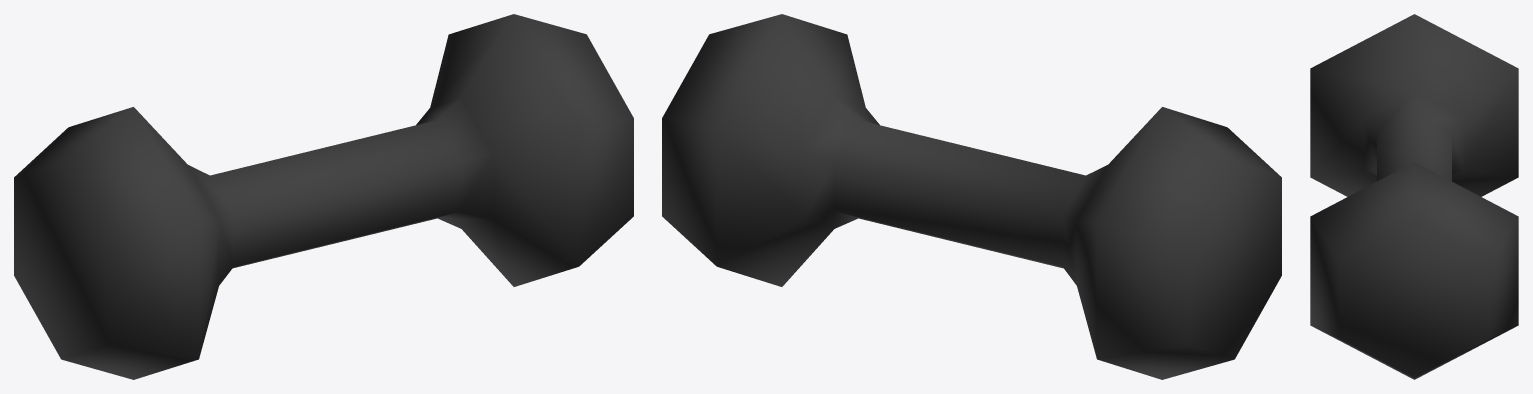
File: Weight_03.FBX
3 renders of one model, left to right at view 1: azimuth 30°, elevation 25°; view 2: azimuth 150°, elevation 25°; view 3: azimuth 270°, elevation 25°, orthographic. The views are drawn at different scales.
Visible parts, largest first — view 1: Weight; view 2: Weight; view 3: Weight.
Part boxes in pixels (x1=…): Weight: x1=14, y1=14, x2=633, y2=379; Weight: x1=662, y1=14, x2=1281, y2=379; Weight: x1=1310, y1=14, x2=1518, y2=379.
Size of the model in its own units: 78.32 by 38.91 by 33.69.
